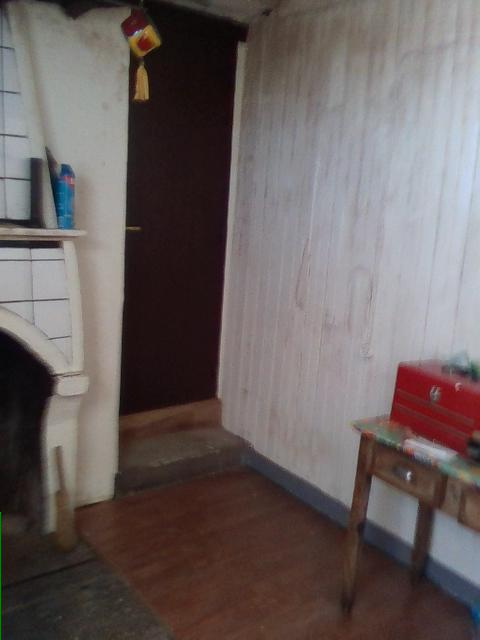door: (117, 11, 238, 417)
